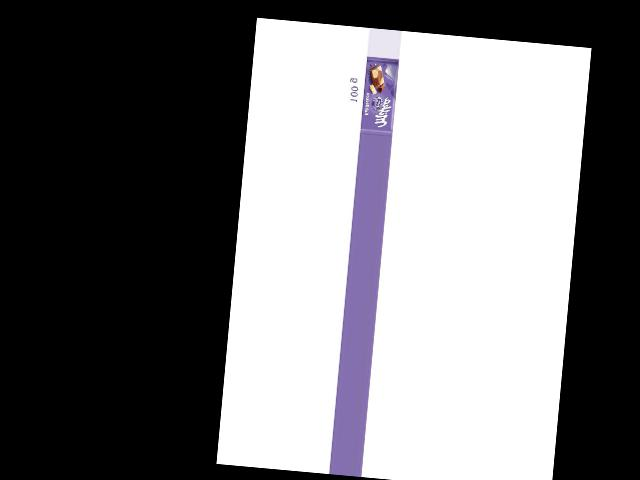chocolate: (355, 55, 400, 136)
